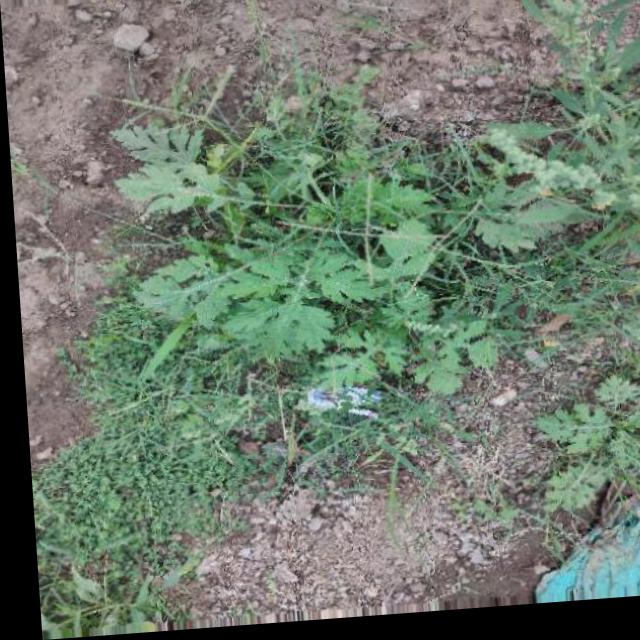weed: (57, 55, 612, 472)
